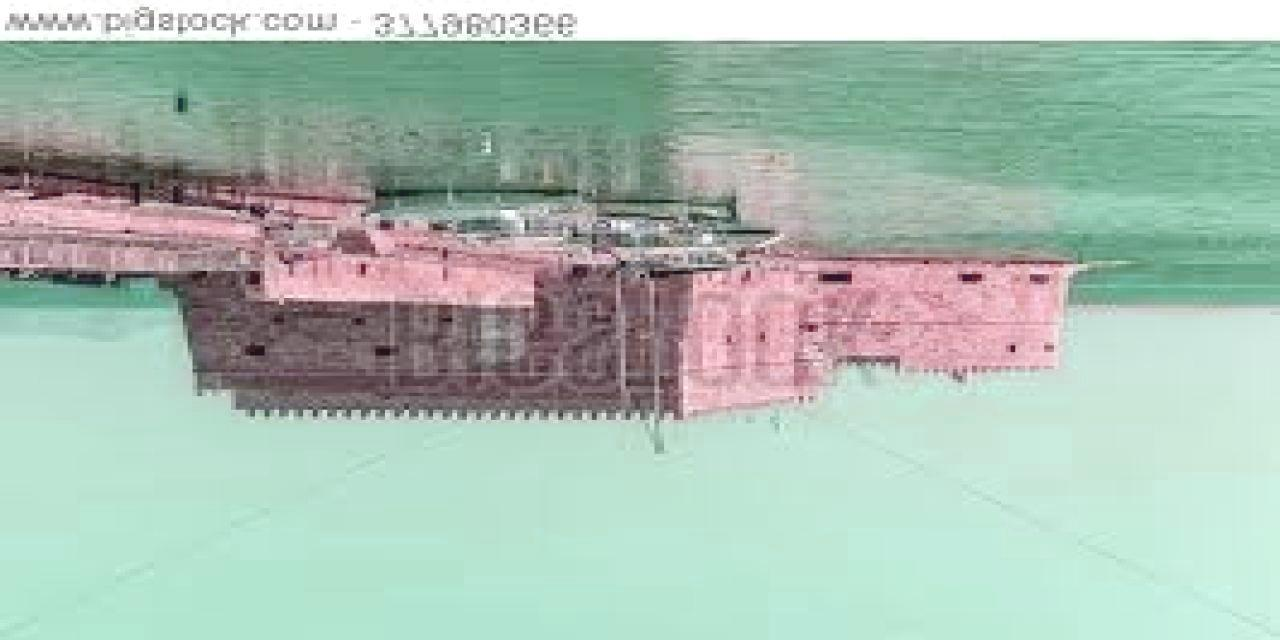Kules: (180, 260, 1089, 432)
